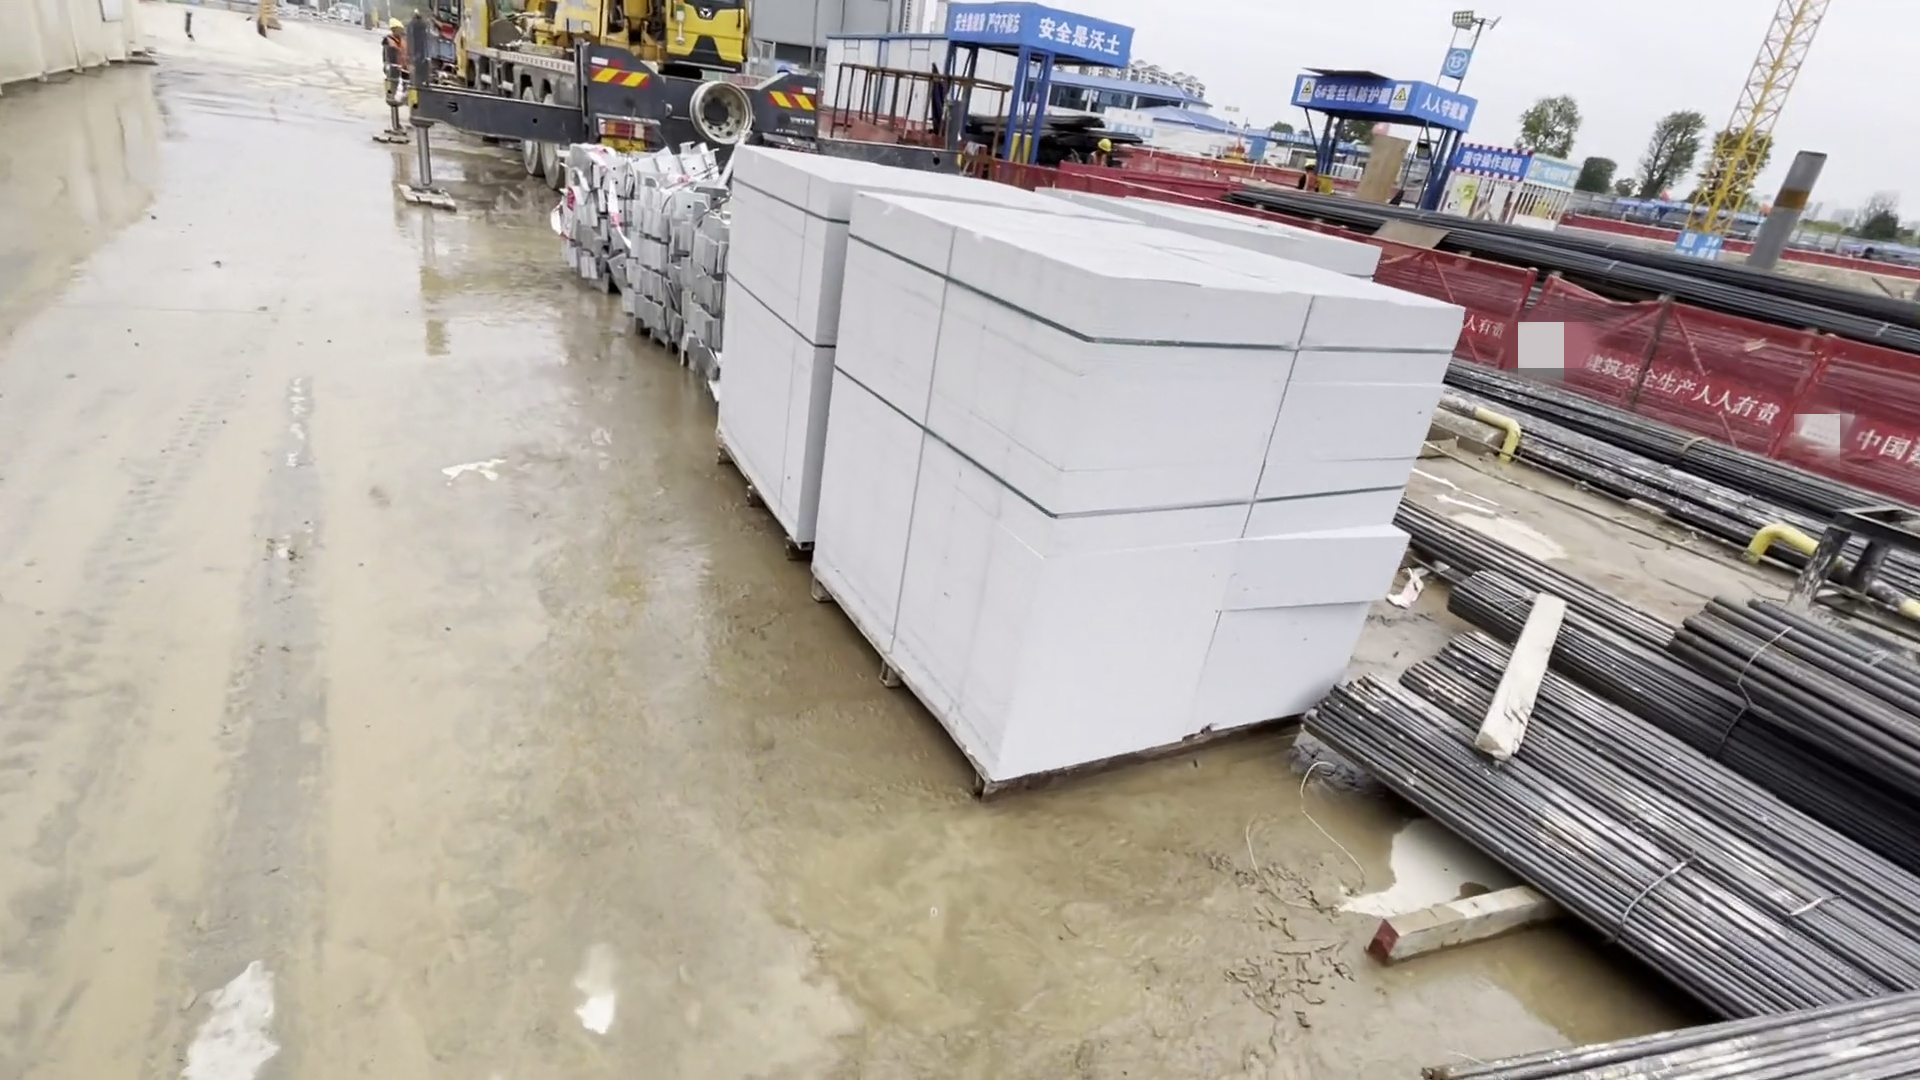brick: (712, 140, 1437, 803)
slogan: (1295, 62, 1473, 138), (938, 7, 1138, 66)
